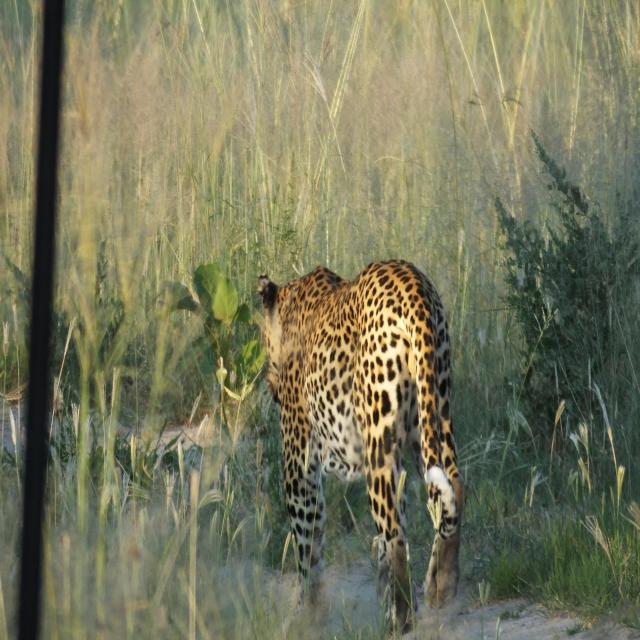Leopard: (237, 240, 475, 628)
